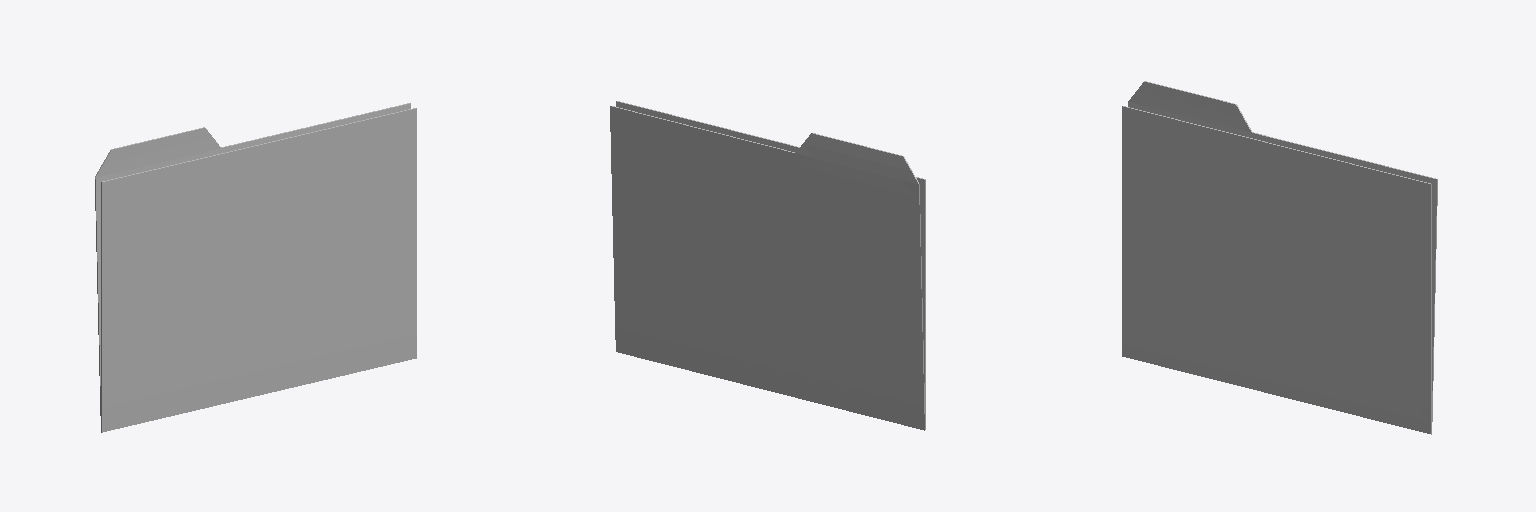
File: folder.obj
3 views of the same model, side by side, from view 1: azimuth 30°, elevation 25°; view 2: azimuth 150°, elevation 25°; view 3: azimuth 330°, elevation 25° (orthographic).
Visible parts, largest first — view 1: pasted__pPlane1; view 2: pasted__pPlane1; view 3: pasted__pPlane1.
Part boxes in pixels (bbox=[...]): pasted__pPlane1: bbox=[95, 103, 416, 432]; pasted__pPlane1: bbox=[610, 101, 925, 430]; pasted__pPlane1: bbox=[1122, 81, 1437, 434].
Size of the model in its own units: 8.21 by 6.9 by 0.4687.